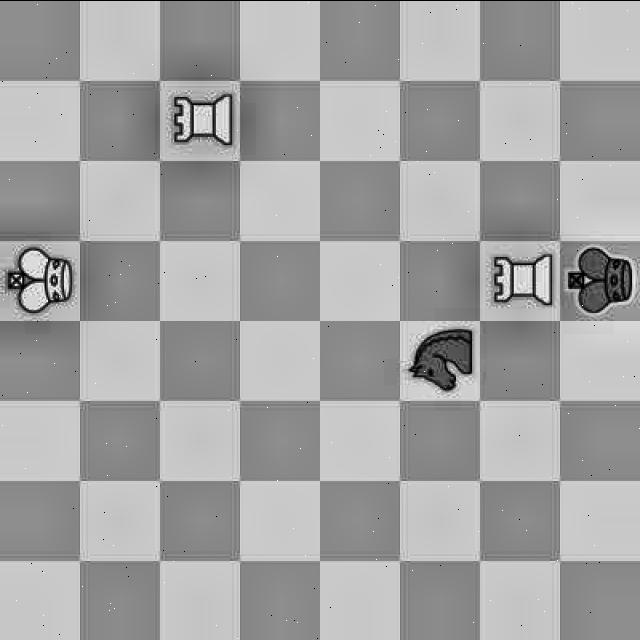black king: (560, 241, 640, 317), (397, 324, 473, 398)
white king: (0, 247, 78, 317)
white rook: (158, 80, 236, 156), (478, 248, 552, 320)
